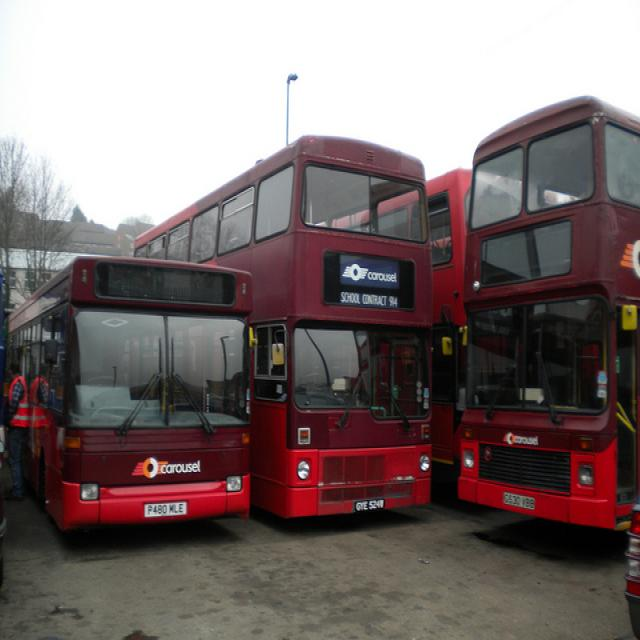Vehicle: (134, 138, 431, 521), (460, 98, 640, 530), (1, 253, 252, 547), (422, 171, 475, 504), (628, 509, 640, 631)
